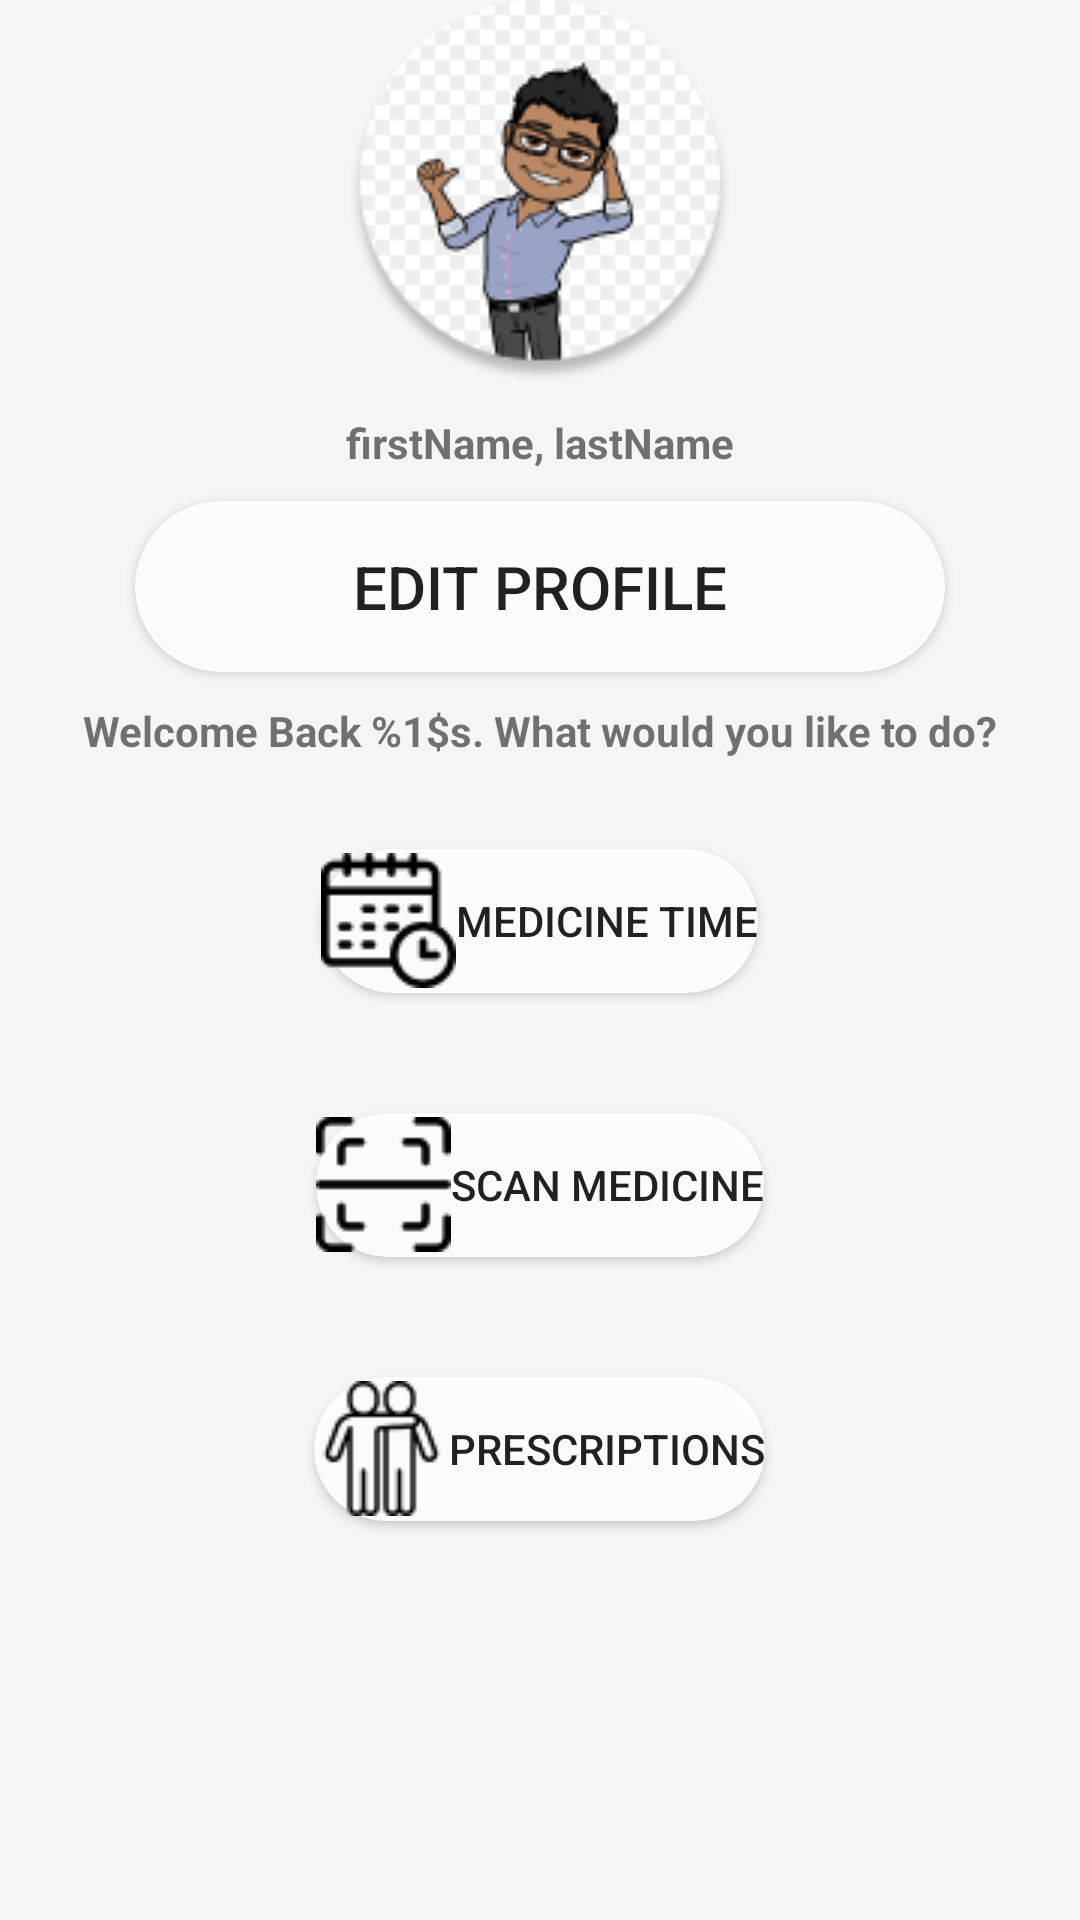

Named icons in this screenshot (1080x1920) and their bounding boxes, (x1, y1, x2, y2):
profilepic: (360, 62, 720, 373)
